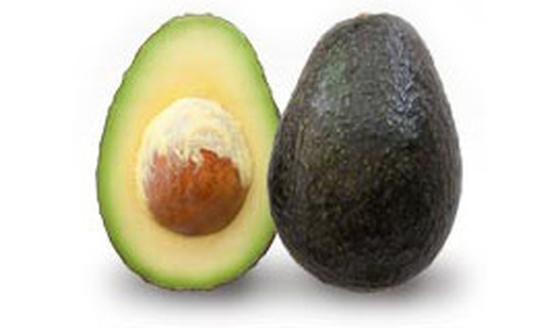avocado: (272, 9, 460, 294)
